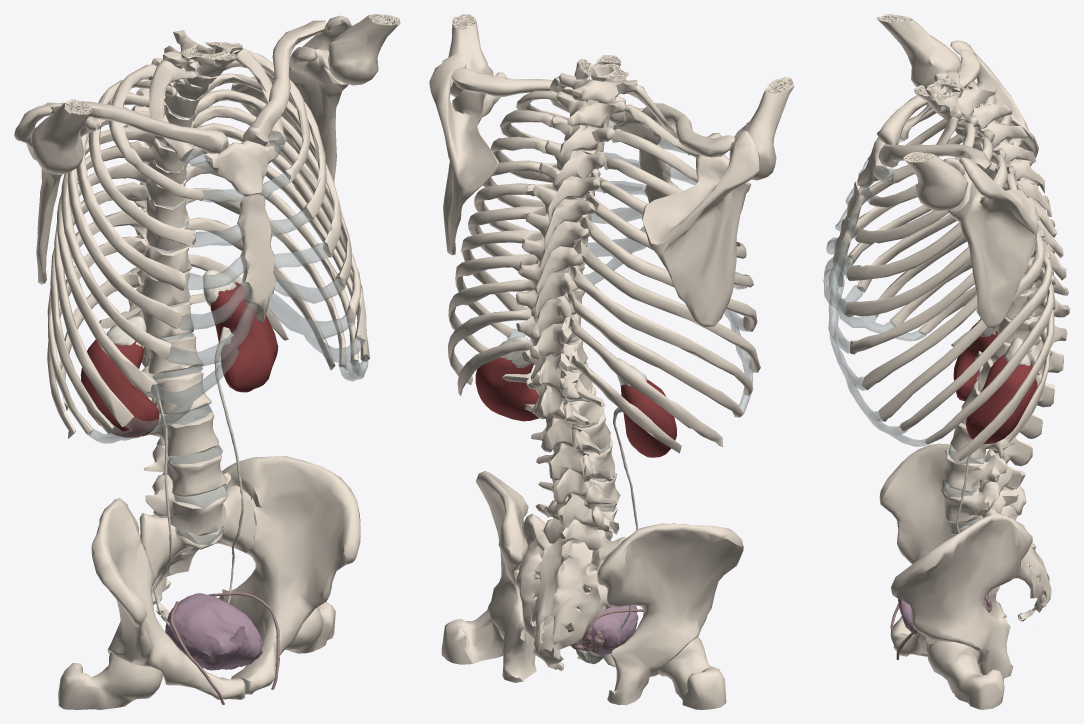
3 renders of one model, left to right at view 1: azimuth 30°, elevation 25°; view 2: azimuth 150°, elevation 25°; view 3: azimuth 270°, elevation 25°, orthographic. The views are drawn at different scales.
Visible parts, largest first — view 1: Botjes, Costal_cartilages, blaas, Rechternier, Rechternier1, Vertebral_discs, Skin_ZSphere2, Extract1, PM3D_Sphere3D1_3; view 2: Botjes, Costal_cartilages, Rechternier, Rechternier1, blaas, Extract1; view 3: Botjes, Costal_cartilages, Rechternier, Rechternier1, Vertebral_discs.
Boxes of the visible parts, box(x1,y1,x2,y2) form: Botjes: box(14, 14, 400, 709); Costal_cartilages: box(86, 131, 368, 694); blaas: box(165, 593, 262, 670); Rechternier: box(210, 282, 278, 392); Rechternier1: box(80, 334, 159, 437); Vertebral_discs: box(146, 59, 226, 544); Skin_ZSphere2: box(142, 327, 243, 626); Extract1: box(170, 592, 279, 704); PM3D_Sphere3D1_3: box(203, 270, 236, 306); Botjes: box(429, 14, 794, 709); Costal_cartilages: box(507, 120, 753, 658); Rechternier: box(475, 358, 539, 421); Rechternier1: box(621, 379, 676, 457); blaas: box(568, 605, 638, 655); Extract1: box(570, 609, 643, 653); Botjes: box(832, 14, 1069, 709); Costal_cartilages: box(823, 136, 929, 636); Rechternier: box(966, 354, 1037, 443); Rechternier1: box(953, 322, 998, 401); Vertebral_discs: box(925, 86, 1031, 530).
Bounding box in the file's own units: 393 × 677 × 269.
